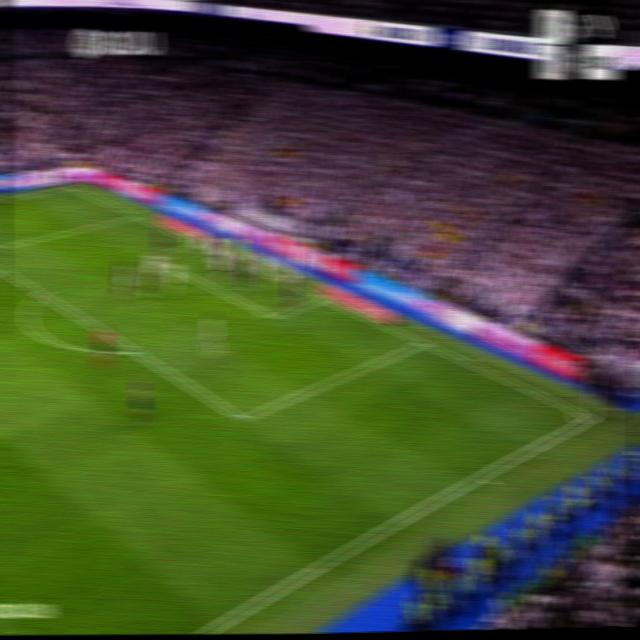bigarea_bottom_inner: (233, 405, 250, 430)
bigarea_bottom_outter: (414, 333, 430, 349)
bigarea_top_outter: (130, 208, 144, 220)
bottom_arc_area_intersection: (126, 341, 142, 358)
corner: (66, 182, 79, 189)
smallarea_bottom_inner: (264, 307, 280, 325)
smallarea_bottom_outter: (317, 291, 330, 303)
top_arc_area_intersection: (33, 284, 49, 300)
